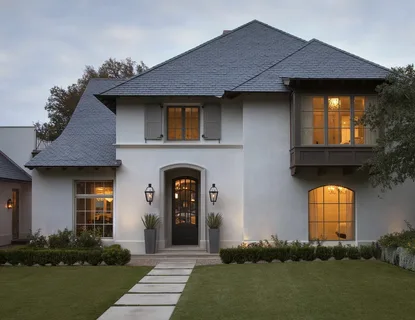private_hause: (58, 54, 401, 244)
